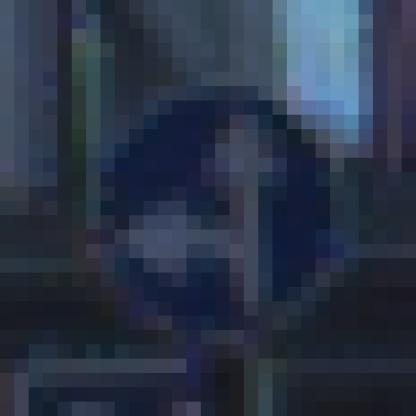Straight or Left: (73, 73, 345, 345)
